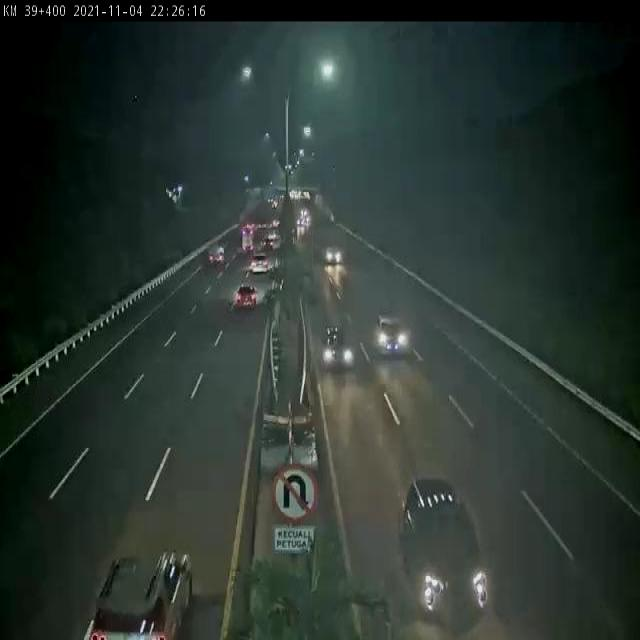Car: (83, 520, 197, 640), (398, 475, 485, 624), (318, 313, 353, 375), (373, 309, 409, 366), (232, 283, 264, 319), (322, 236, 350, 276), (250, 250, 271, 276)
Truck: (202, 232, 233, 268), (238, 221, 256, 254)
